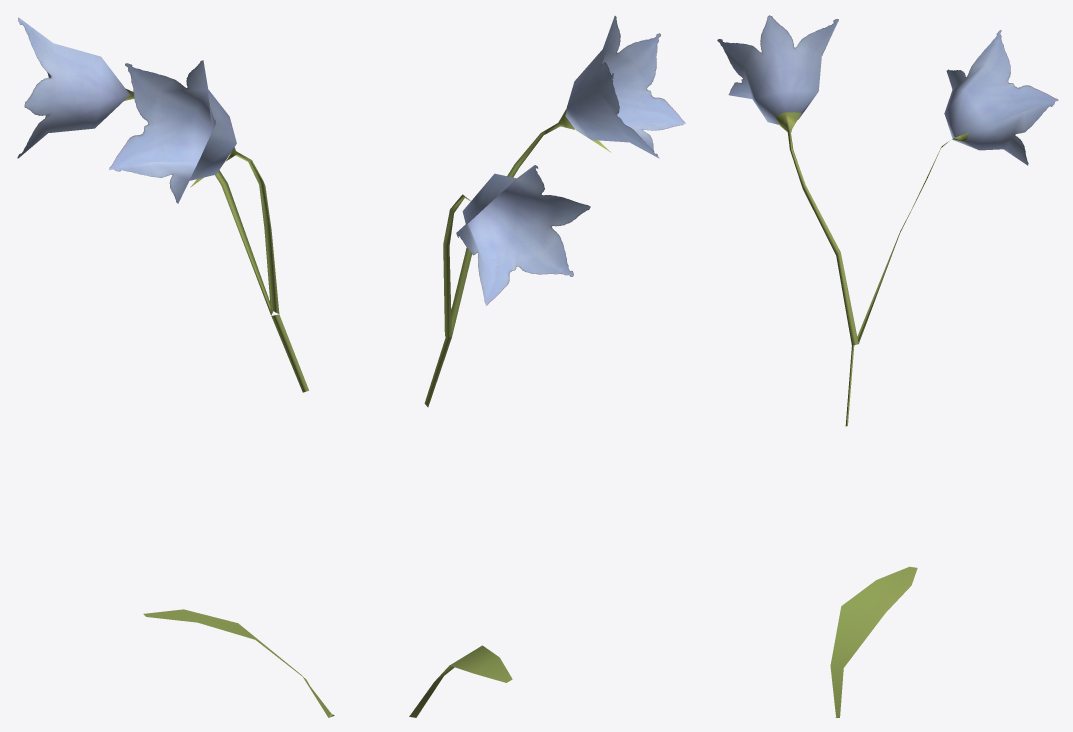
The model's file is flower_bell_shadow.glb.
3 renders of one model, left to right at view 1: azimuth 30°, elevation 25°; view 2: azimuth 150°, elevation 25°; view 3: azimuth 270°, elevation 25°, orthographic. The views are drawn at different scales.
Visible parts, largest first — view 1: bq_Flower_Campanula-scheuchzeri_C_spring-summer; view 2: bq_Flower_Campanula-scheuchzeri_C_spring-summer; view 3: bq_Flower_Campanula-scheuchzeri_C_spring-summer.
Part boxes in pixels (x1,y1,x2,y2): bq_Flower_Campanula-scheuchzeri_C_spring-summer: [17, 17, 334, 717]; bq_Flower_Campanula-scheuchzeri_C_spring-summer: [409, 16, 685, 717]; bq_Flower_Campanula-scheuchzeri_C_spring-summer: [717, 15, 1058, 717].
Bounding box in the file's own units: 0.0663 × 0.1863 × 0.0919.
Materials: 2 (2 with a texture image).
